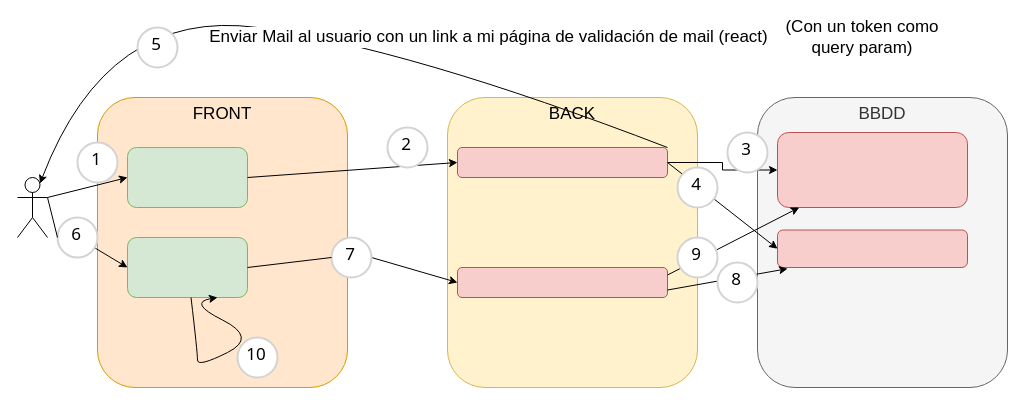
This 1025x405 diagram has some shape labels left out. The centre of each missing label's shape, as x and y in pixels:
"/auth/register (POST)" goes at pixel 562 162.
"/auth/validate (GET)" goes at pixel 562 282.
"mail/pass (Codificada) / status (PENDING_EMAIL_VALIDATION)" goes at pixel 872 170.
"Pagina Registro" goes at pixel 187 177.
"Pagina Validación" goes at pixel 187 267.
"token/email" goes at pixel 872 248.
"User" goes at pixel 32 207.
